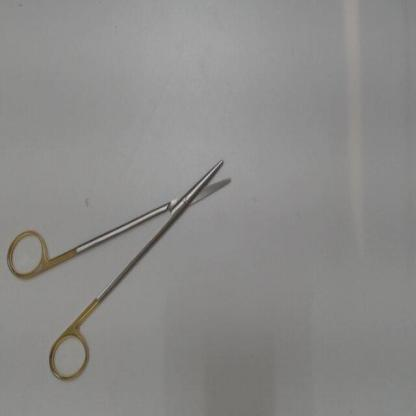7 Metzenbaum Scissors: (5, 158, 232, 385)
